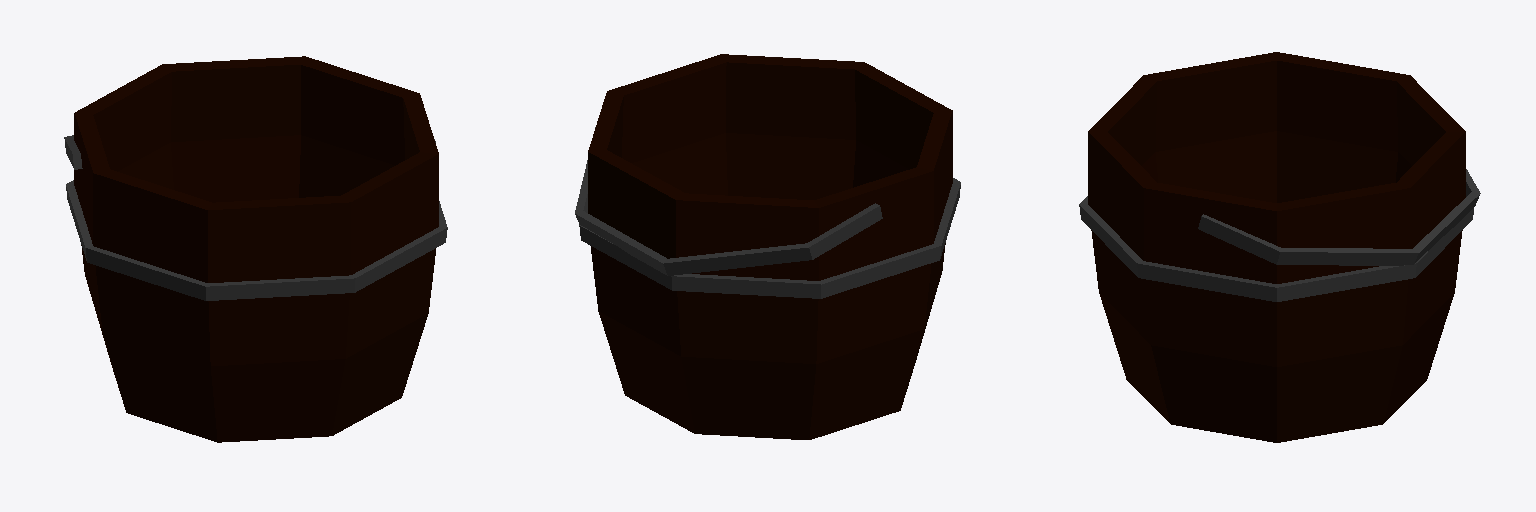
The model's file is Bucket.obj.
3 renders of one model, left to right at view 1: azimuth 30°, elevation 25°; view 2: azimuth 150°, elevation 25°; view 3: azimuth 270°, elevation 25°, orthographic.
Visible parts, largest first — view 1: Circle; view 2: Circle, Circle.001; view 3: Circle, Circle.001.
Boxes of the visible parts, x1,y1,x2,y2 form: Circle: [66, 56, 447, 442]; Circle: [579, 54, 960, 439]; Circle.001: [575, 127, 882, 275]; Circle: [1079, 52, 1473, 442]; Circle.001: [1198, 169, 1480, 265].
Bounding box in the file's own units: 0.5283 × 0.3638 × 0.5339.